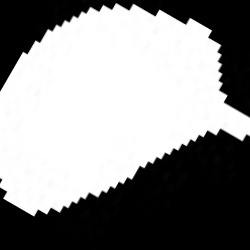spot: (2, 7, 246, 215)
